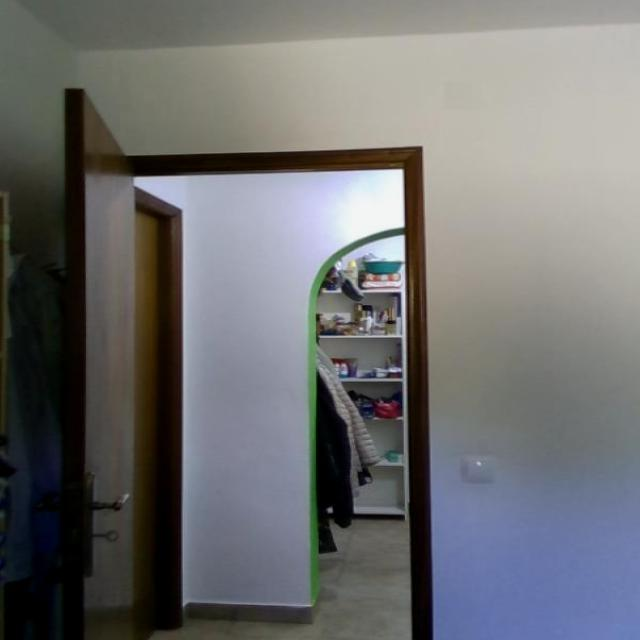door: (38, 84, 164, 637)
